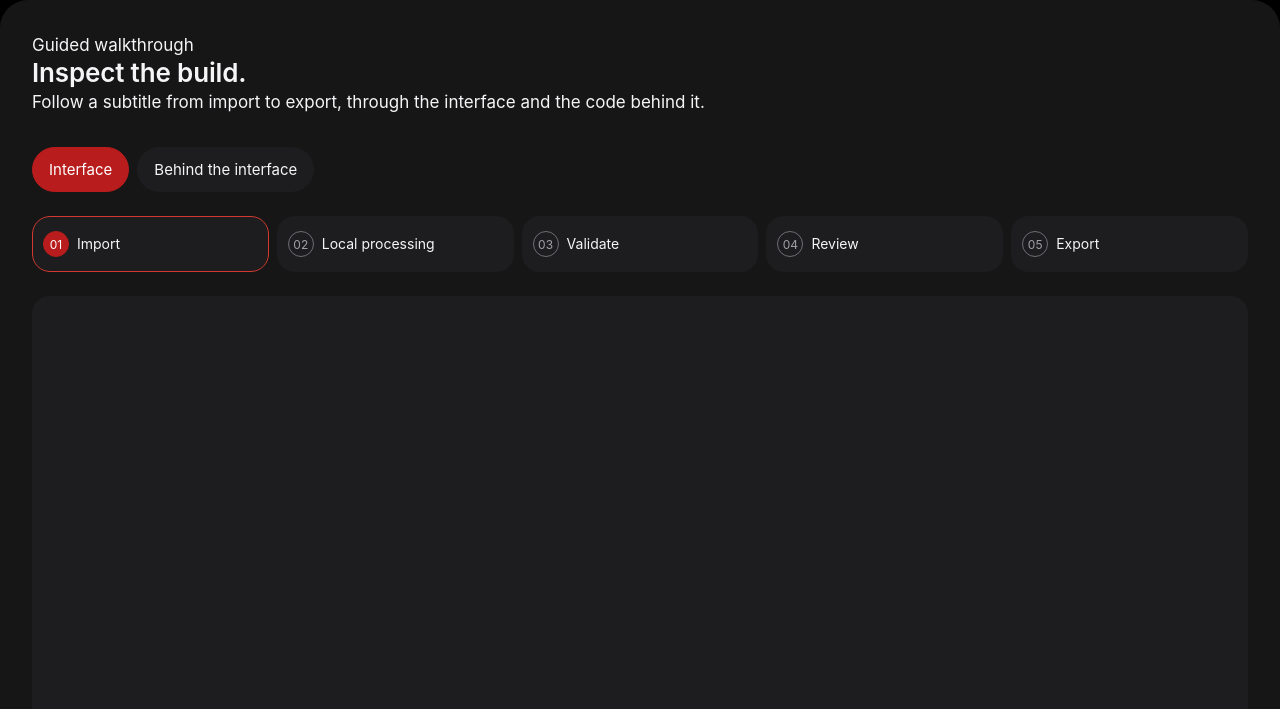
Test: Subtitle Studio guided walkthrough › retains captions and the architecture view when the screenshot cannot load
Click the tab "Behind the interface".
click(226, 170)  # box 137,147 -> 314,192
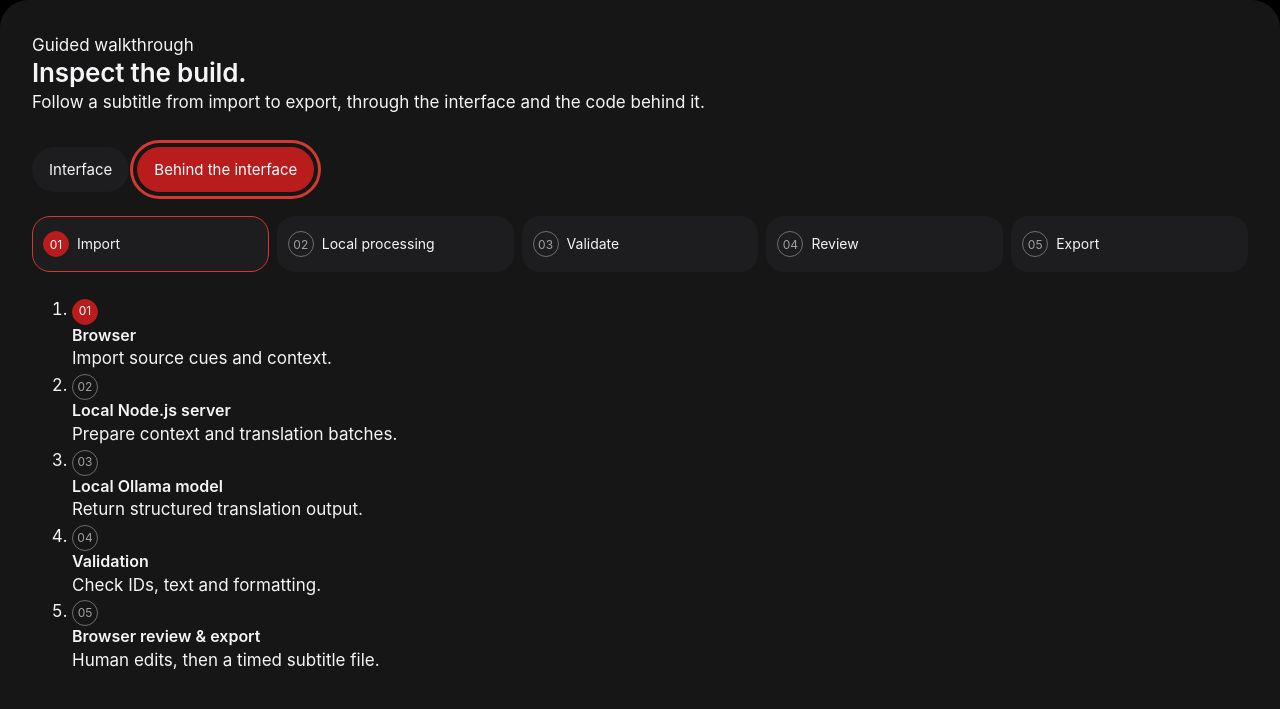
expect the number of list items is 5: met, box 72,299 -> 332,368; 72,374 -> 397,444; 72,450 -> 363,519; 72,525 -> 321,595; 72,600 -> 380,670
